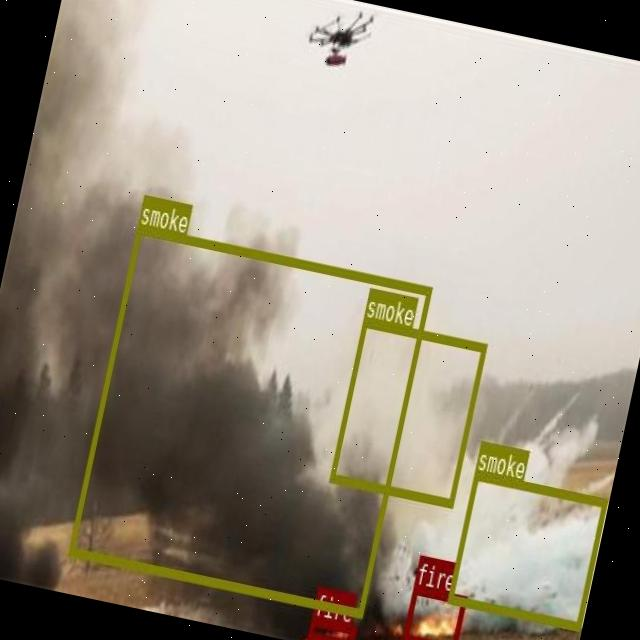fire: (401, 583, 466, 640), (306, 615, 355, 640)
smoke: (67, 224, 431, 616), (328, 316, 486, 506), (447, 469, 608, 628)
